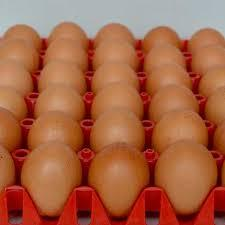egg: (155, 136, 220, 216), (18, 140, 82, 216), (89, 138, 148, 214), (90, 110, 148, 146), (29, 110, 85, 145), (157, 107, 206, 144), (91, 82, 148, 107), (30, 84, 84, 108), (88, 54, 140, 78), (42, 35, 91, 60), (96, 20, 138, 39)
